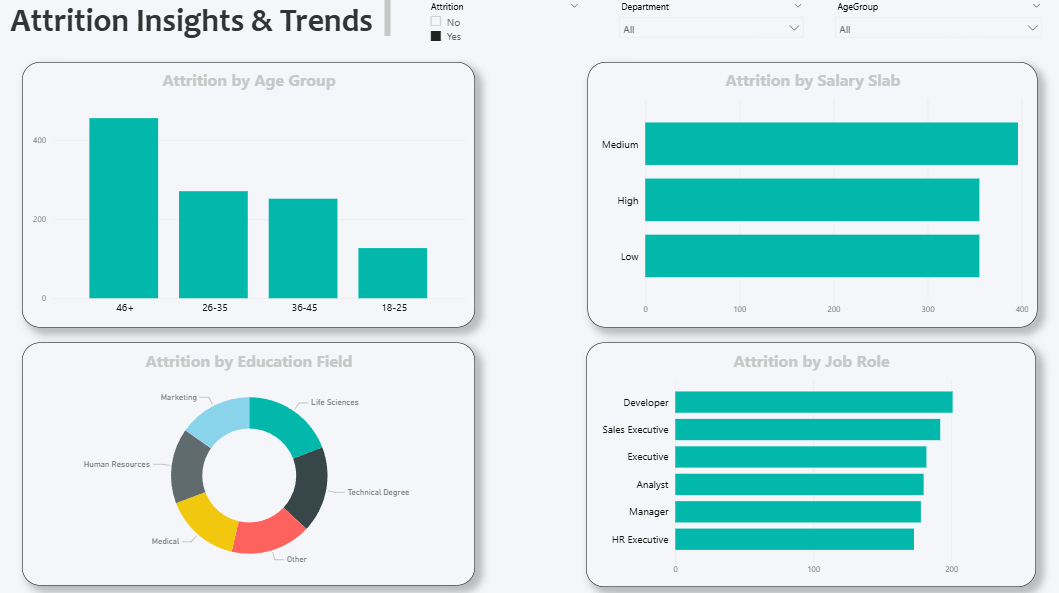

The dashboard page shown, as its layout file describes it:
{"tool":"powerbi","page":{"name":"Attrition Analysis","canvas":[1431,804],"ordinal":2},"visuals":[{"type":"textbox","box":[0,0,532,60],"z":0},{"type":"columnChart","title":"Attrition by Age Group","fields":{"Y":["CountNonNull(PowerBI_Employee_5000_Data.Attrition)"],"Category":["PowerBI_Employee_5000_Data.AgeGroup"]},"box":[36,88,604,354],"z":1000},{"type":"barChart","title":"Attrition by Salary Slab","fields":{"Category":["PowerBI_Employee_5000_Data.SalarySlab"],"Y":["CountNonNull(PowerBI_Employee_5000_Data.Attrition)"]},"box":[790,88,600,354],"z":2000},{"type":"donutChart","title":"Attrition by Education Field","fields":{"Category":["PowerBI_Employee_5000_Data.EducationField"],"Y":["CountNonNull(PowerBI_Employee_5000_Data.Attrition)"]},"box":[36,462,604,324],"z":3000},{"type":"barChart","title":"Attrition by Job Role","fields":{"Category":["PowerBI_Employee_5000_Data.JobRole"],"Y":["Sum(PowerBI_Employee_5000_Data.Attrition Count)"]},"box":[788,462,600,326],"z":4000},{"type":"slicer","fields":{"Values":["PowerBI_Employee_5000_Data.Attrition"]},"box":[568,0,222,88],"z":5000},{"type":"slicer","fields":{"Values":["PowerBI_Employee_5000_Data.Department"]},"box":[822,0,266,88],"z":6000},{"type":"slicer","fields":{"Values":["PowerBI_Employee_5000_Data.AgeGroup"]},"box":[1110,0,296,88],"z":7000}]}

Visuals, with their boxes in screenshot pixels (x1, y1, x2, y2), scaled from the page's 1431x804 canvas onto the 1059x593 screenshot:
textbox: (0,0,394,44)
"Attrition by Age Group" columnChart: (27,65,474,326)
"Attrition by Salary Slab" barChart: (585,65,1029,326)
"Attrition by Education Field" donutChart: (27,341,474,580)
"Attrition by Job Role" barChart: (583,341,1027,581)
slicer - PowerBI_Employee_5000_Data.Attrition: (420,0,585,65)
slicer - PowerBI_Employee_5000_Data.Department: (608,0,805,65)
slicer - PowerBI_Employee_5000_Data.AgeGroup: (821,0,1040,65)
